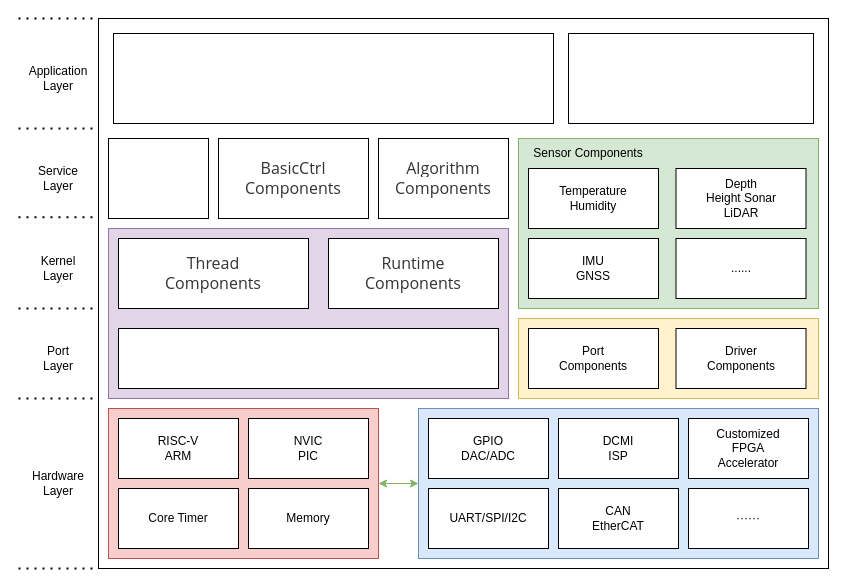
This 846x587 diagram has some shape labels left out. The shapes that lost their labels are listed below. From the top down, each one's box as (x1, y1, x2, y2) in pixels, then its label:
(112, 32, 554, 124): Application Components
(568, 32, 814, 124): BSP Components
(108, 138, 208, 218): Display Components
(118, 328, 498, 388): OsCompat (CMSIS)
